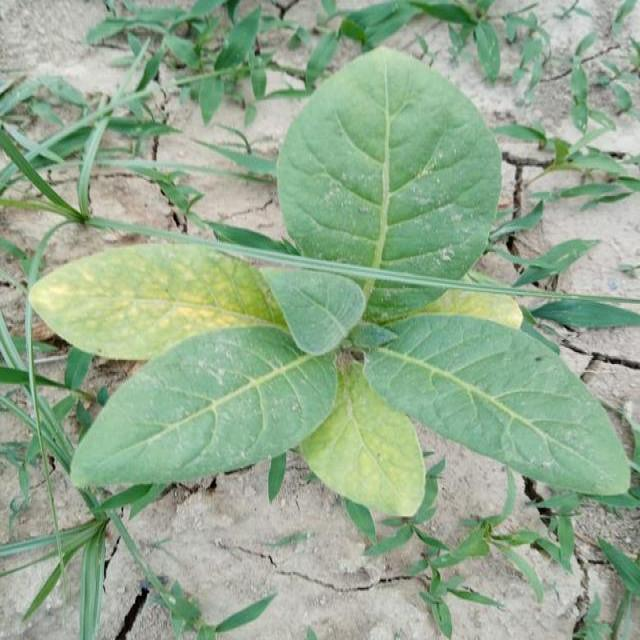crop: (29, 47, 632, 511)
